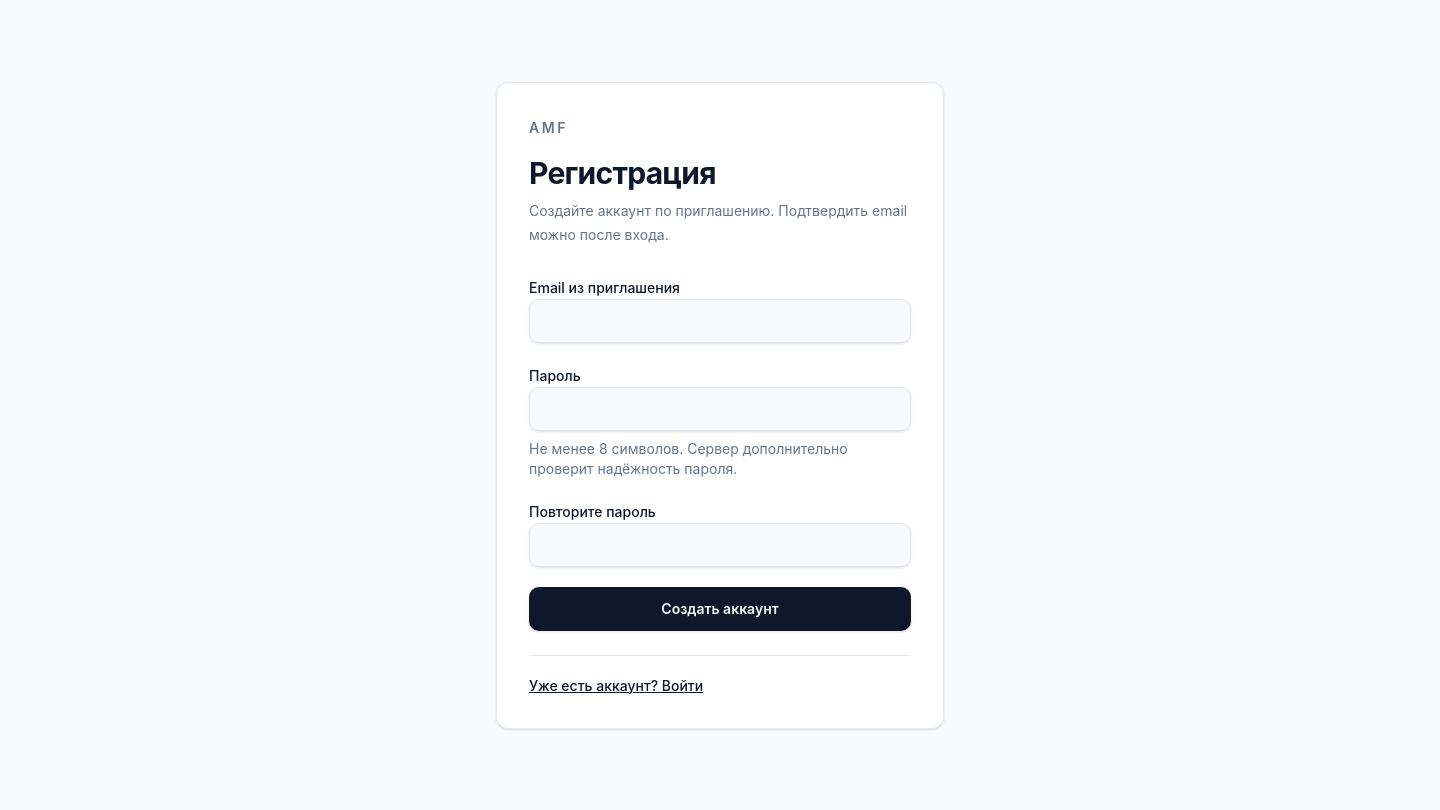
Test: authentication forms › captures and removes invitation token before registering
Expected: the heading "Регистрация" is shown, [529,154,716,190]
Type "applicant@example.com" into the field labelled "Email из приглашения" at (720, 320), box [529,298,911,342]
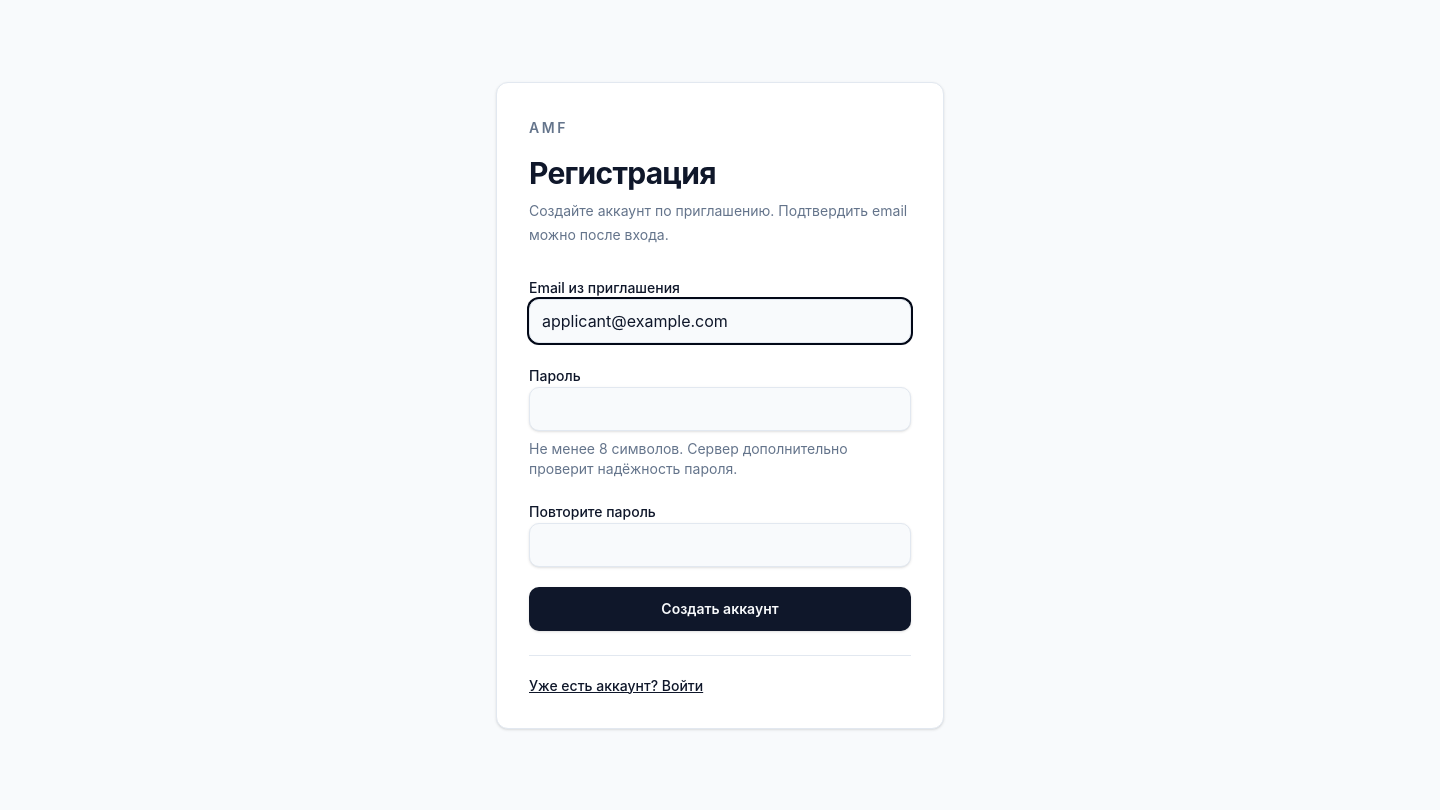
Type "strong-password" into the password field labelled "Пароль" at (720, 408), box [529,386,911,430]
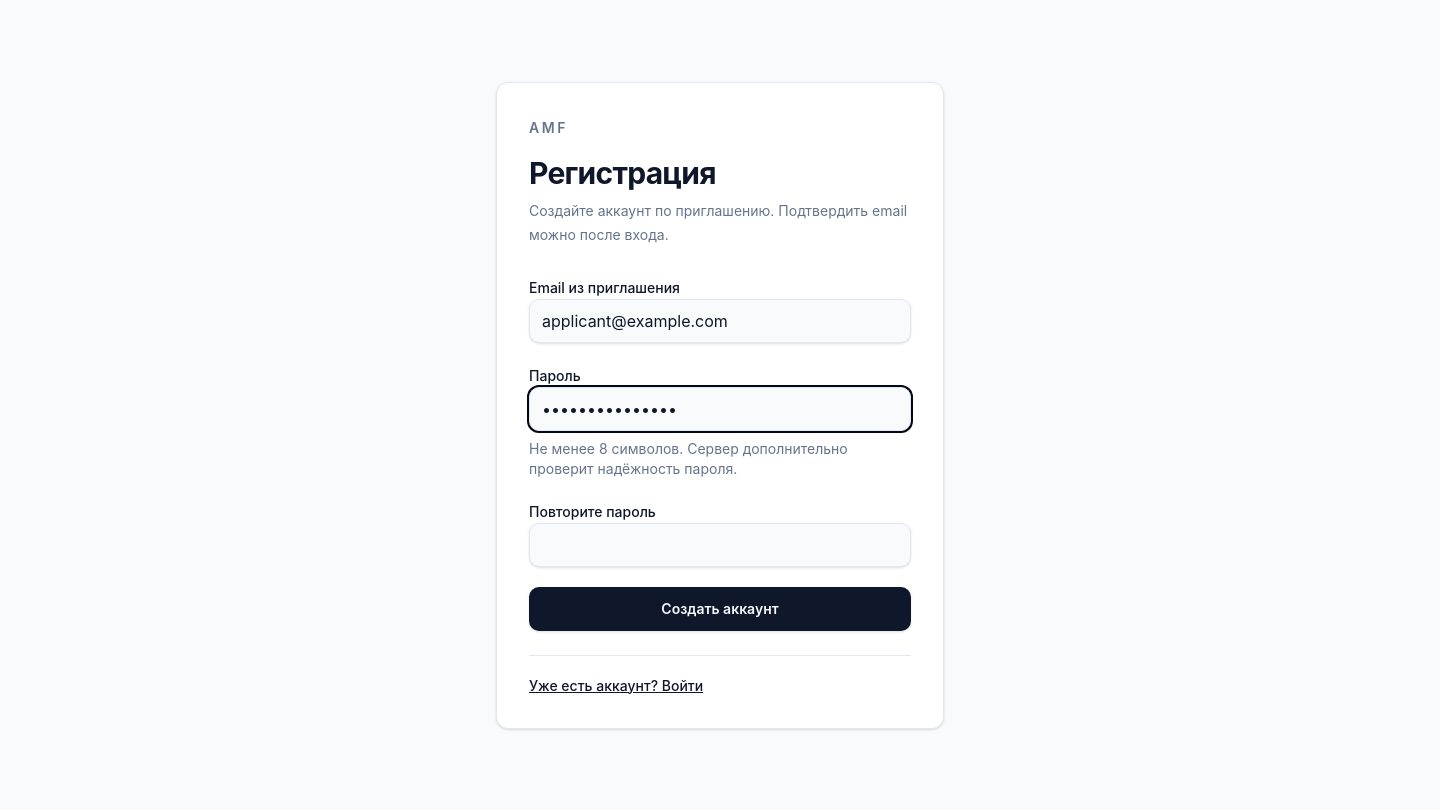
Type "strong-password" into the password field labelled "Повторите пароль" at (720, 544), box [529,522,911,566]
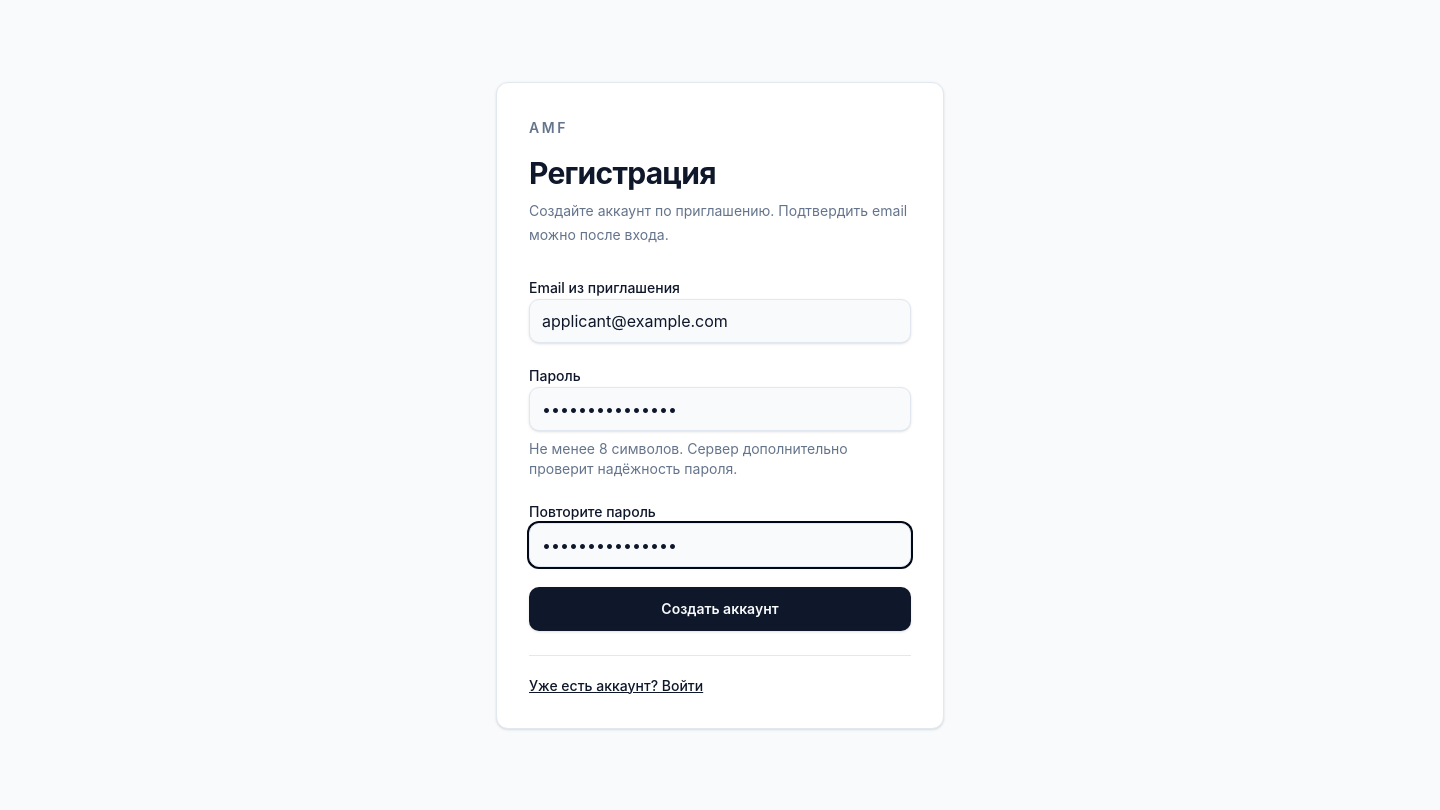
Click the button "Создать аккаунт" at (720, 608), box [529,586,911,630]
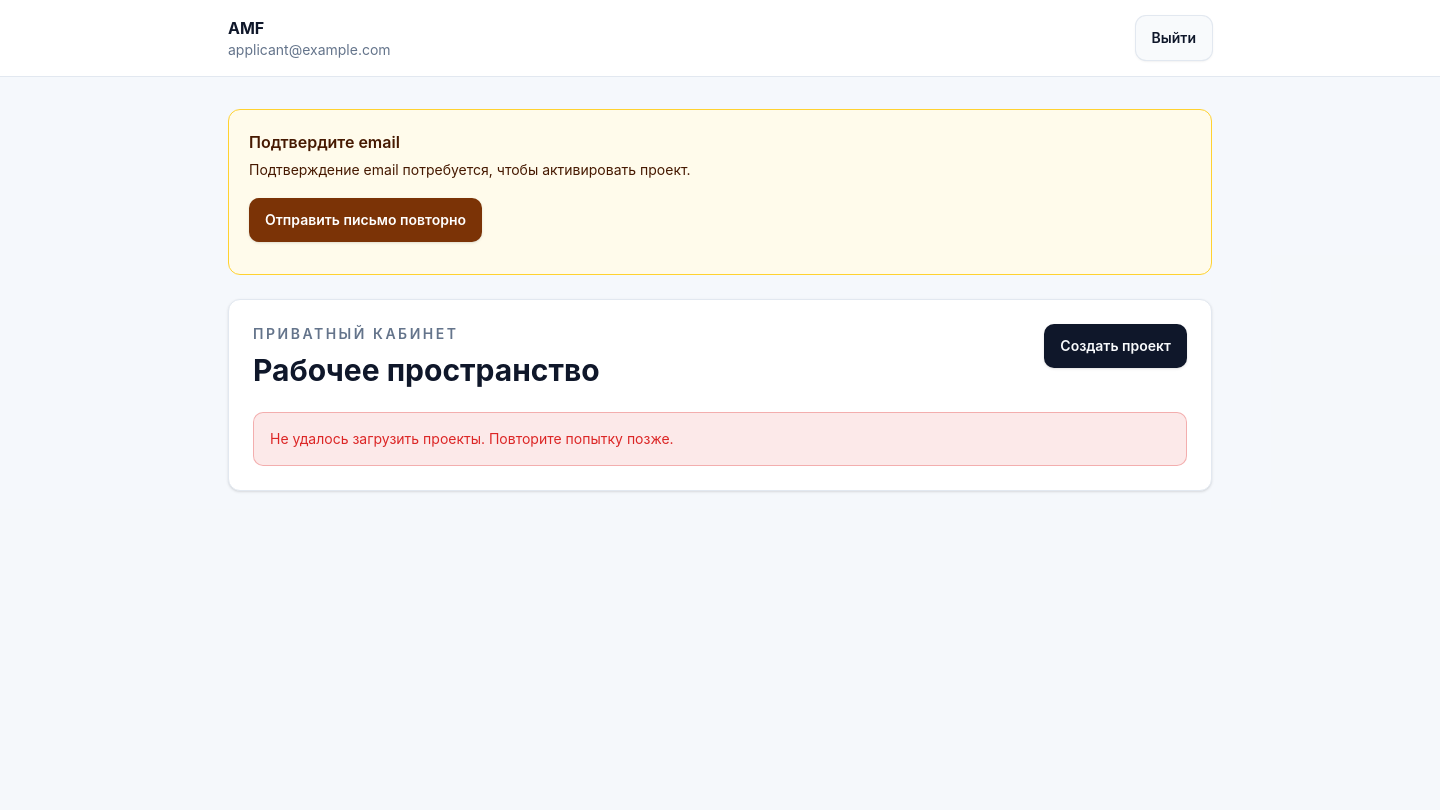
Expected: the heading "Рабочее пространство" is shown, [253,352,600,388]
